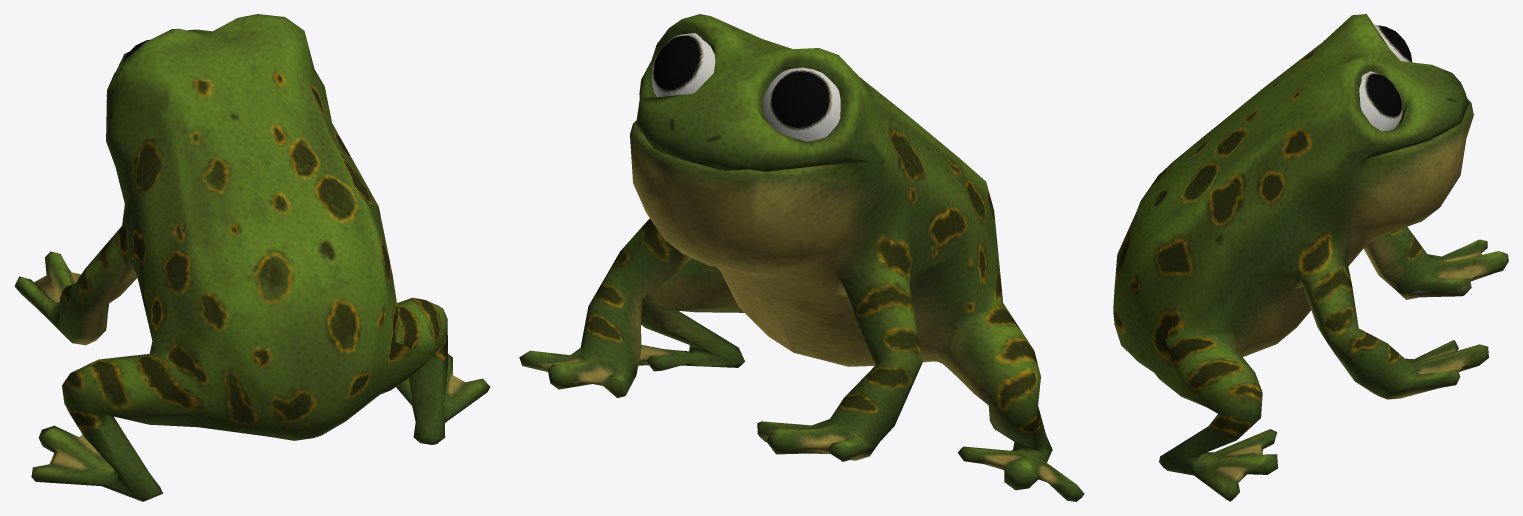
Rendered from plushfrogbert_static.fbx.
3 renders of one model, left to right at view 1: azimuth 30°, elevation 25°; view 2: azimuth 150°, elevation 25°; view 3: azimuth 270°, elevation 25°, orthographic. The views are drawn at different scales.
Parts seen in each view (by area): view 1: Frogbert.002; view 2: Frogbert.002; view 3: Frogbert.002.
Part boxes in pixels (box(x1,y1,x2,y2)): Frogbert.002: box(14, 14, 490, 501); Frogbert.002: box(519, 14, 1084, 501); Frogbert.002: box(1113, 14, 1508, 501).
Size of the model in its own units: 0.4446 by 0.3669 by 0.3558.
